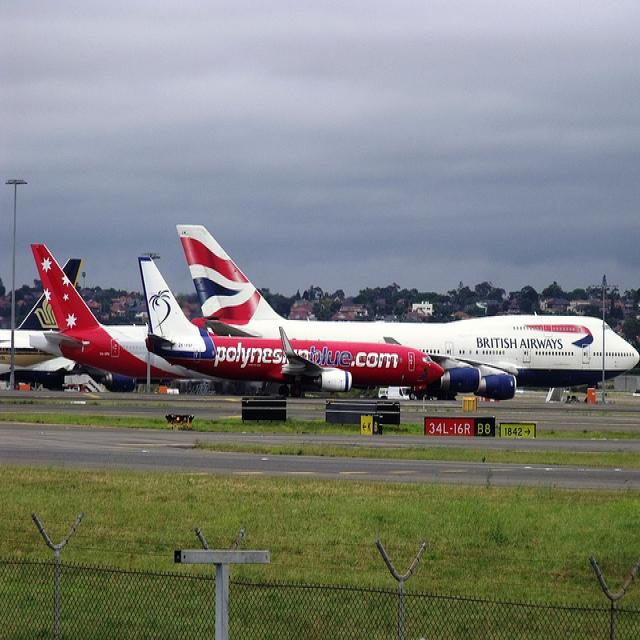airplane: (177, 225, 638, 399), (139, 257, 443, 395), (30, 242, 188, 381), (1, 254, 82, 376)
